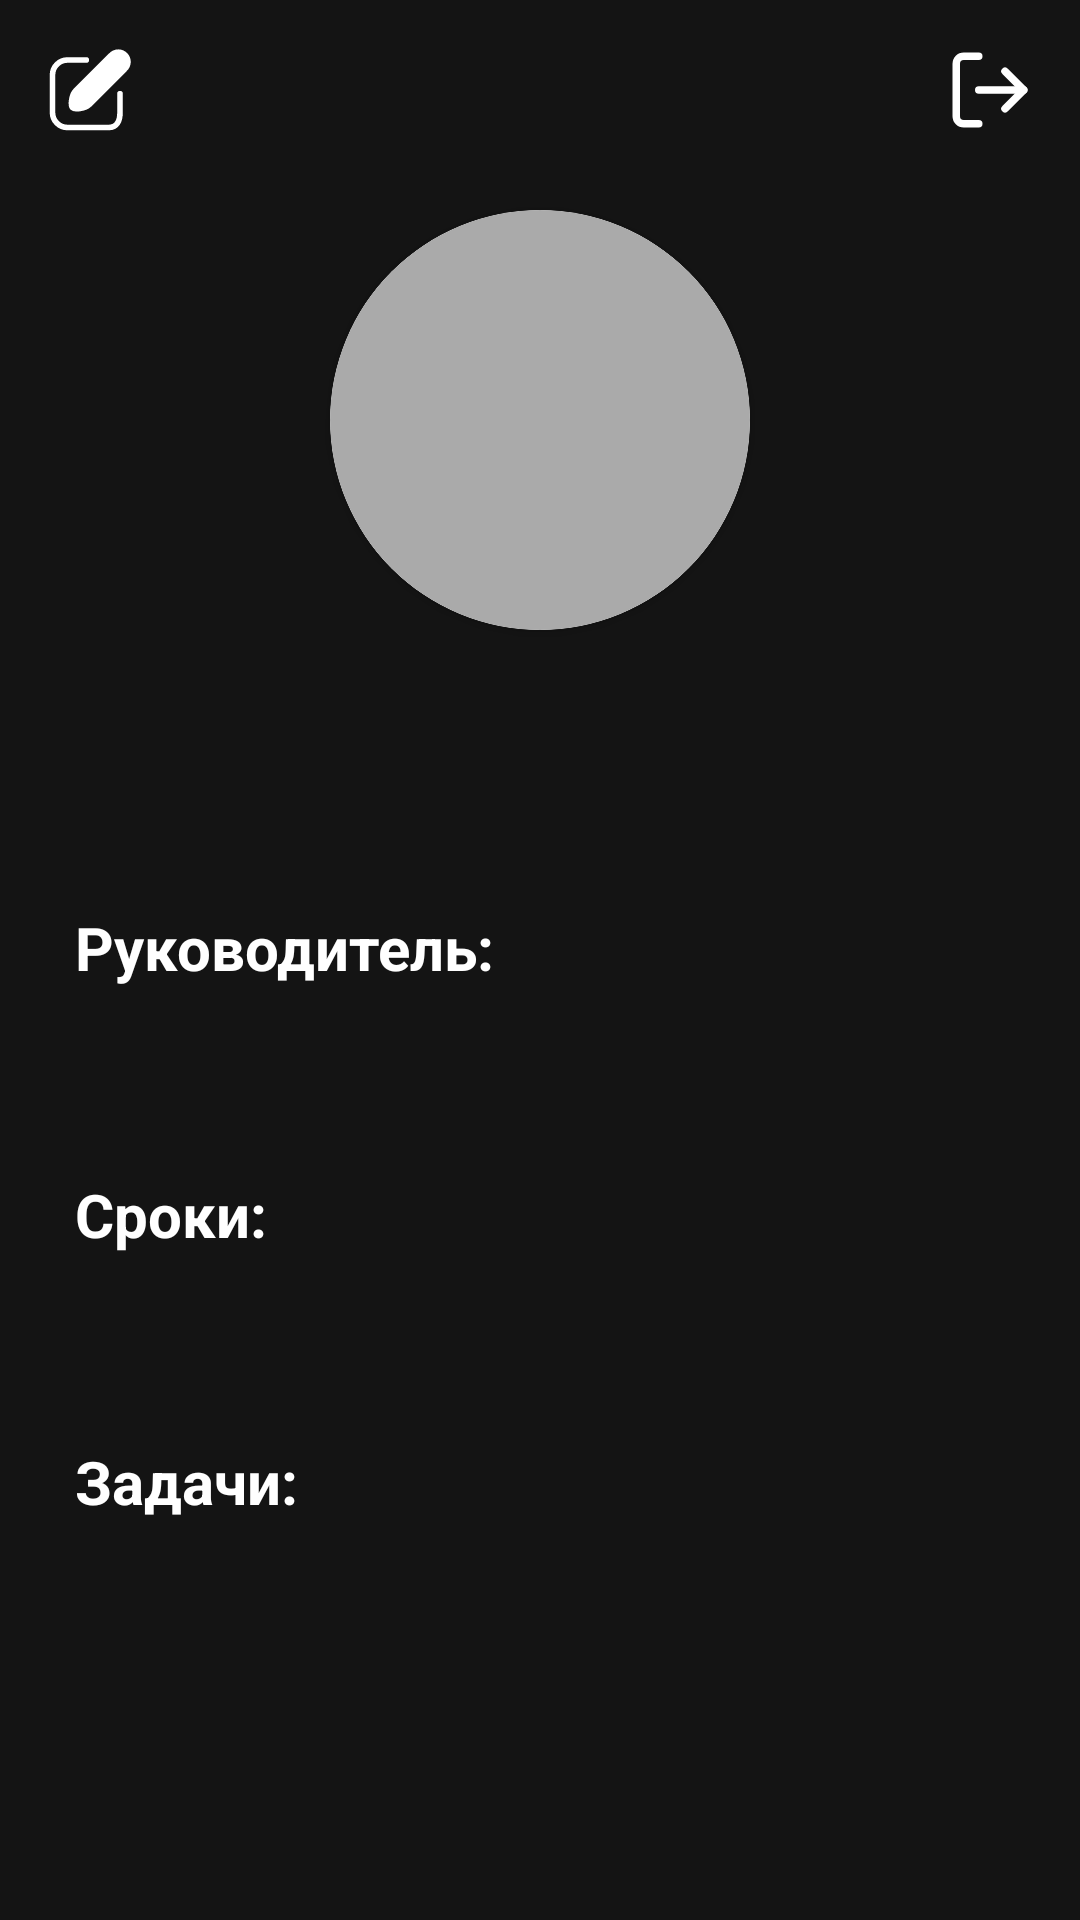

Screen size 1080x1920. Icon name, then its box in pixels as (x1, y1, x2, y2):
edit: (49, 49, 131, 131)
log out: (952, 52, 1028, 128)
